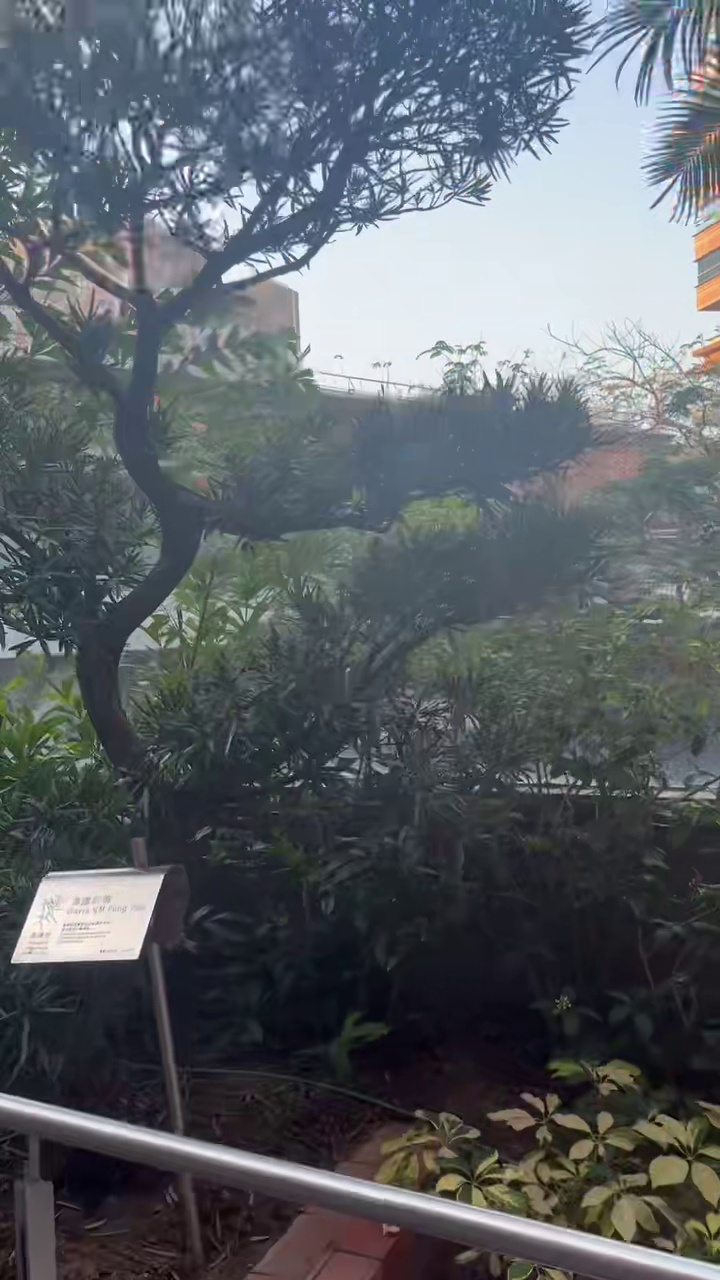Podocarpus macrophyllus: (0, 0, 583, 781)
